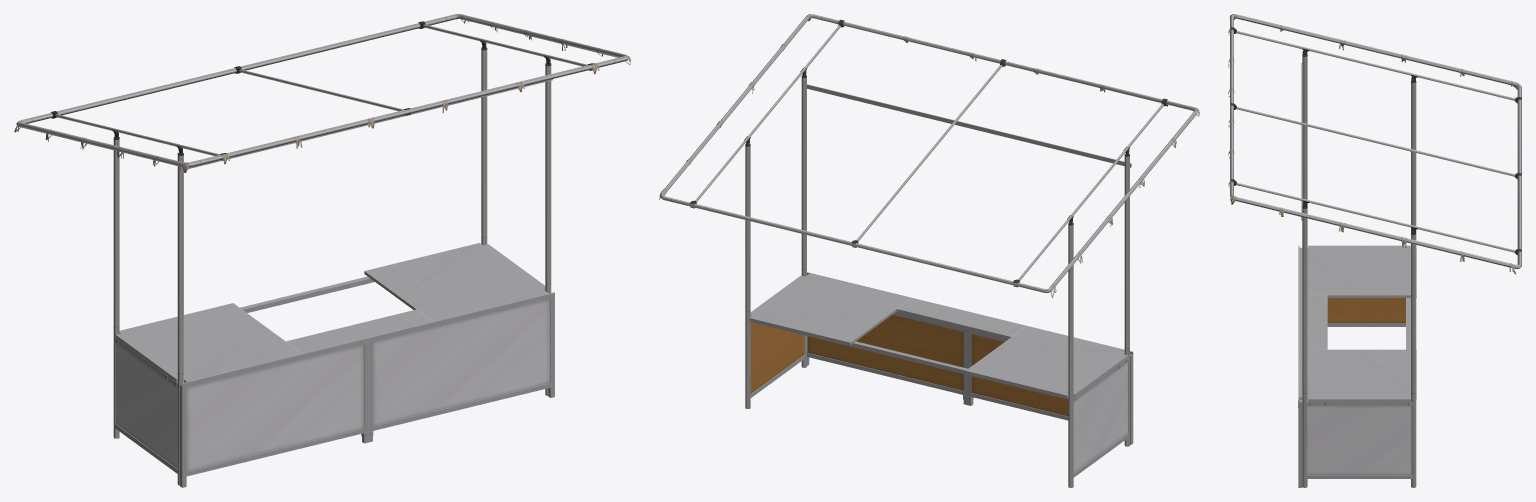
The model's file is jsf_4P_s03_c04_t02.fbx.
3 views of the same model, side by side, from view 1: azimuth 30°, elevation 25°; view 2: azimuth 150°, elevation 25°; view 3: azimuth 270°, elevation 25° (orthographic). The views are drawn at different scales.
Parts seen in each view (by area): view 1: Base_s03_c04, Table_4P_s03_t02, Pillar4_s03, Rope_4P_s03; view 2: Base_s03_c04, Table_4P_s03_t02, Pillar4_s03; view 3: Table_4P_s03_t02, Pillar4_s03, Base_s03_c04, Rope_4P_s03.
Part boxes in pixels (left/top/right/bottom): Base_s03_c04: left=114, top=292, right=554, bottom=487; Table_4P_s03_t02: left=115, top=243, right=548, bottom=386; Pillar4_s03: left=16, top=14, right=628, bottom=485; Rope_4P_s03: left=14, top=14, right=630, bottom=172; Base_s03_c04: left=750, top=272, right=1133, bottom=477; Table_4P_s03_t02: left=749, top=273, right=1128, bottom=400; Pillar4_s03: left=659, top=14, right=1198, bottom=487; Table_4P_s03_t02: left=1299, top=245, right=1416, bottom=405; Pillar4_s03: left=1230, top=14, right=1521, bottom=487; Base_s03_c04: left=1298, top=245, right=1412, bottom=487; Rope_4P_s03: left=1228, top=14, right=1517, bottom=274.
Bounding box in the file's own units: 316 × 243 × 211.
